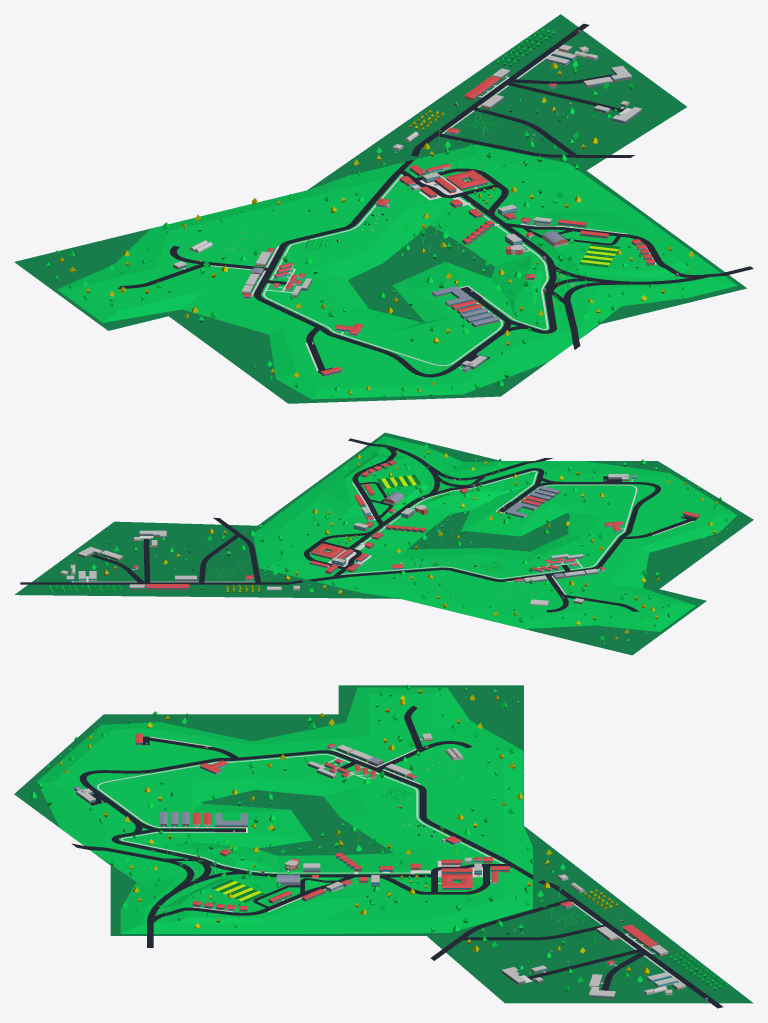
File: cmar.glb
The picture shows the model from 3 angles, top to bottom: view 1: azimuth 30°, elevation 25°; view 2: azimuth 150°, elevation 25°; view 3: azimuth 270°, elevation 25°; orthographic projection. The views are drawn at different scales.
Visible parts, largest first — view 1: cmbnmemou.004, cmbnmetre.000_greenbase.001, cmarmeroa.047, cmarmefut; view 2: cmbnmemou.004, cmbnmetre.000_greenbase.001, cmarmeroa.047, cmarmefut, cmarmeroa.036; view 3: cmbnmemou.004, cmbnmetre.000_greenbase.001, cmarmeroa.047, cmarmefut, cmarmeroa.036.
Boxes of the visible parts, x1,y1,x2,y2 form: cmbnmemou.004: (57, 144, 737, 399); cmbnmetre.000_greenbase.001: (14, 14, 746, 403); cmarmeroa.047: (417, 23, 589, 146); cmarmefut: (579, 243, 620, 267); cmbnmemou.004: (253, 436, 736, 631); cmbnmetre.000_greenbase.001: (14, 432, 753, 655); cmarmeroa.047: (20, 582, 284, 584); cmarmefut: (377, 475, 420, 488); cmarmeroa.036: (308, 568, 439, 581); cmbnmemou.004: (37, 687, 532, 933); cmbnmetre.000_greenbase.001: (14, 685, 753, 1003); cmarmeroa.047: (554, 887, 723, 1008); cmarmefut: (211, 879, 265, 902); cmarmeroa.036: (427, 822, 533, 879).
Size of the model in its own units: 16.02 by 0.375 by 15.5.
